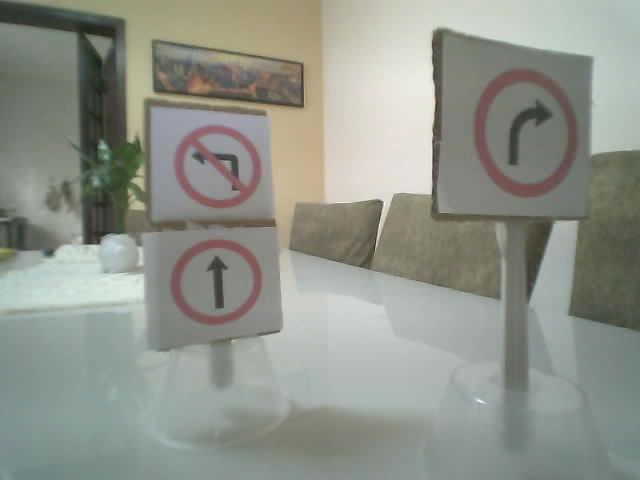R-25b_direita: (471, 68, 577, 196)
R-26_frente: (170, 238, 263, 325)
R-4a_proibido-esquerda: (173, 123, 260, 210)
